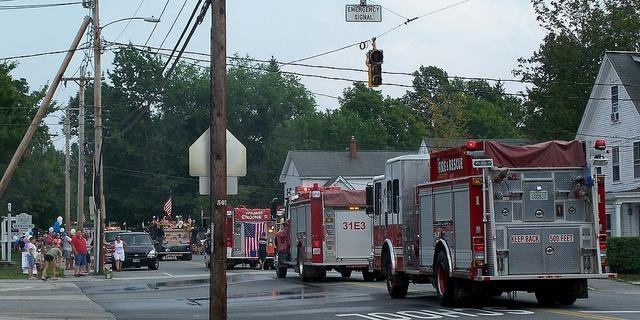car: (120, 230, 160, 270)
truck: (362, 137, 614, 306), (269, 182, 376, 284), (226, 208, 273, 270), (156, 226, 195, 262)
